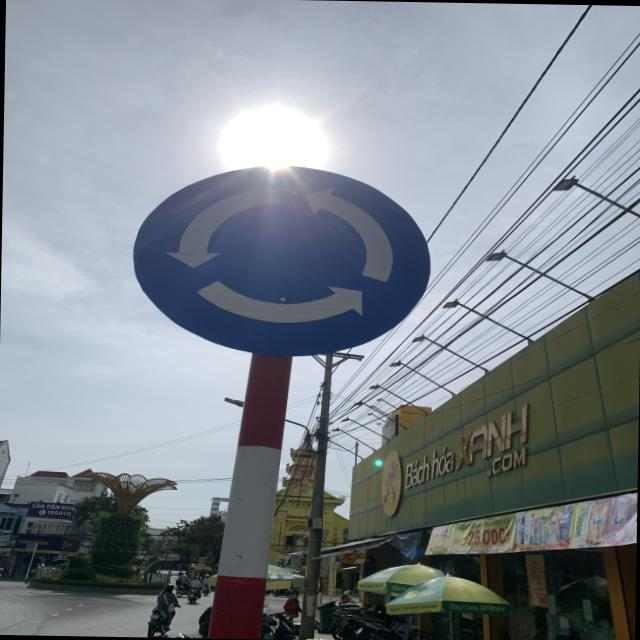Xe_Bus: (131, 163, 431, 360)
